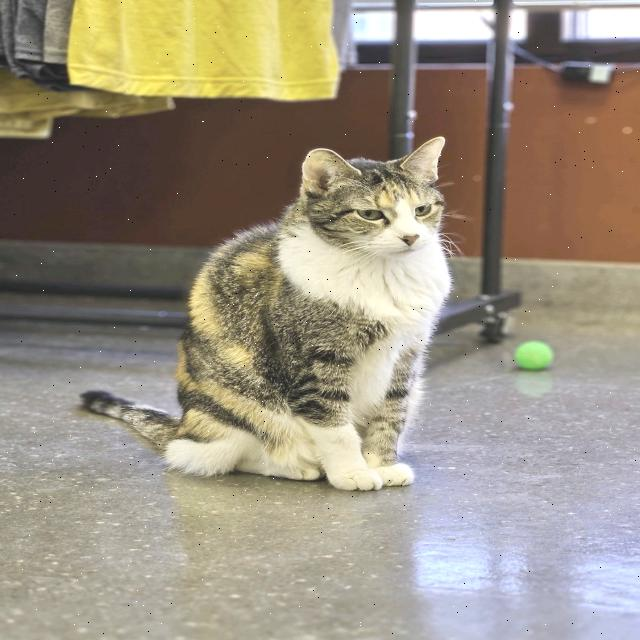calico_cat: (287, 126, 460, 272)
